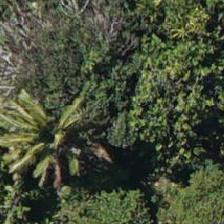coconut_tree: (12, 91, 102, 181)
